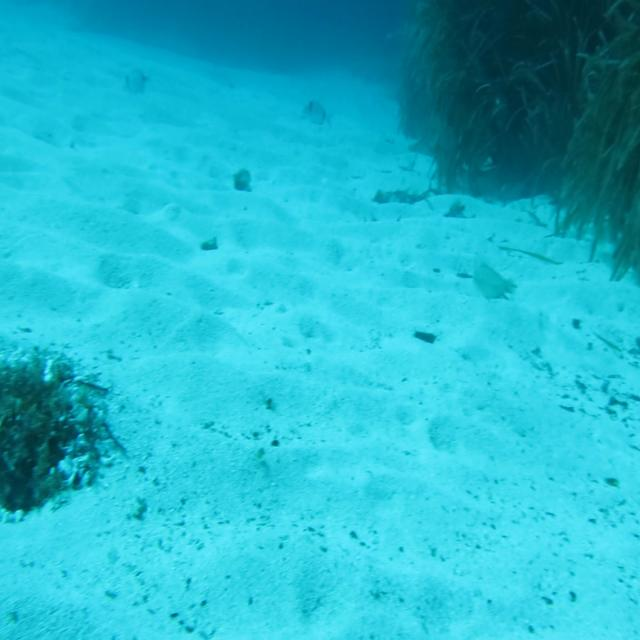BN: (471, 259, 518, 304)
nest: (0, 322, 119, 525)
other_fish: (300, 93, 336, 134), (120, 65, 150, 99)
vegetation: (397, 0, 640, 201), (554, 196, 640, 290), (231, 164, 252, 193), (412, 328, 436, 347), (201, 236, 217, 252)
